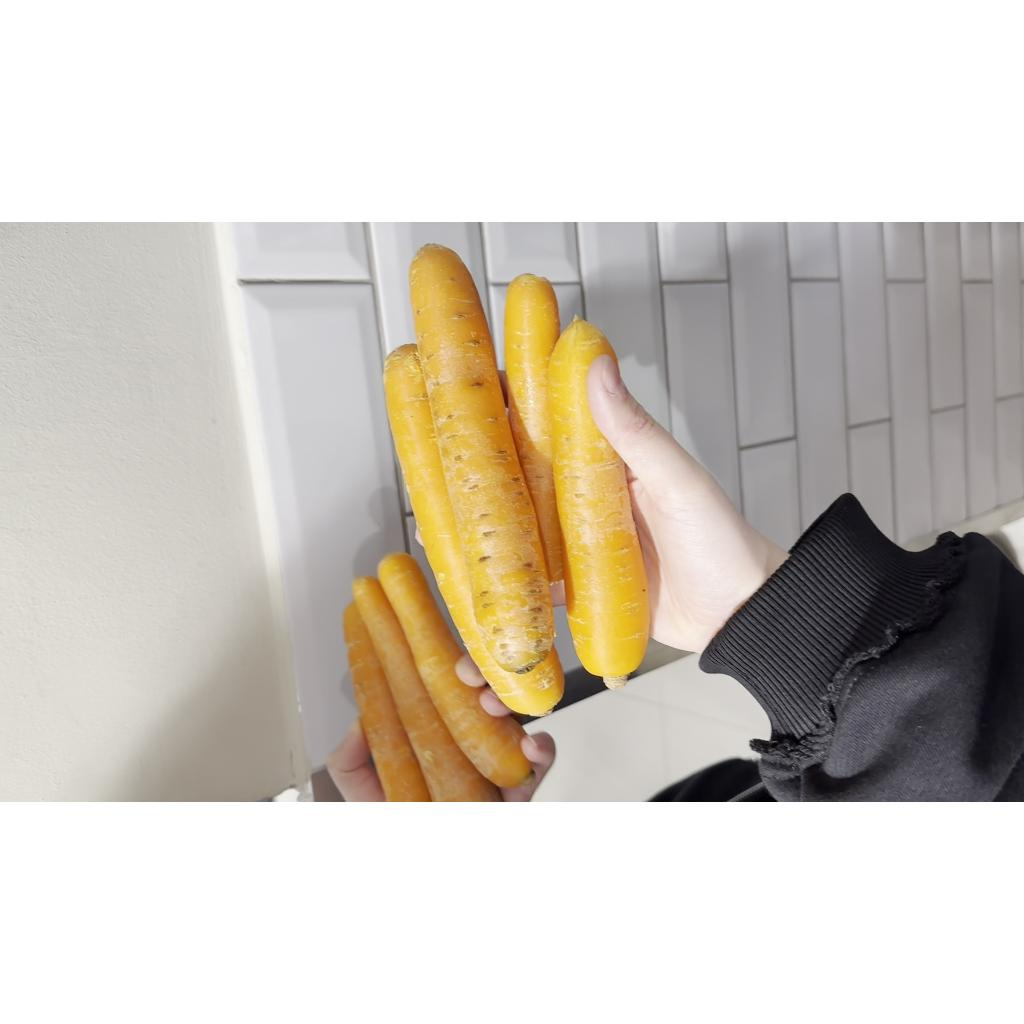carrot: (384, 346, 562, 714), (410, 244, 554, 674), (548, 318, 650, 678), (378, 552, 532, 786), (354, 576, 502, 801), (504, 274, 562, 582), (344, 604, 430, 802)
